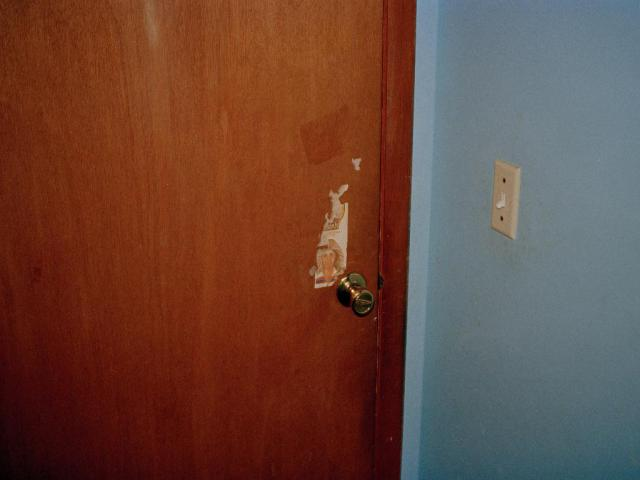Door-handle: (335, 272, 376, 319)
